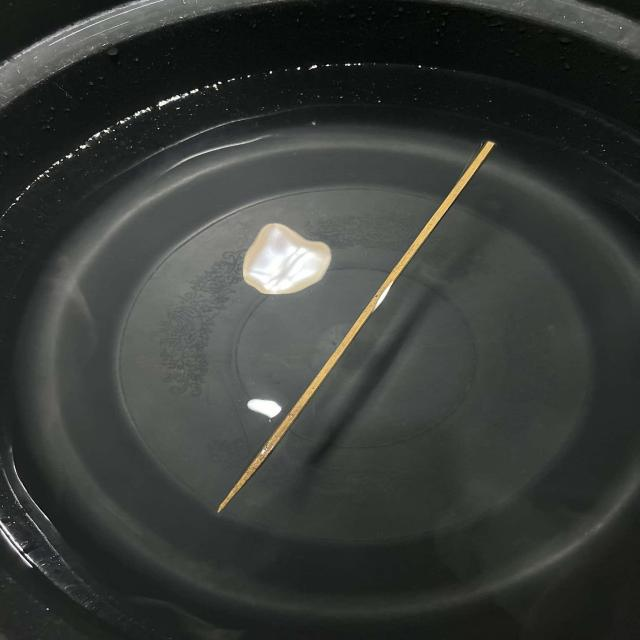Wood Stick: (186, 113, 505, 528)
